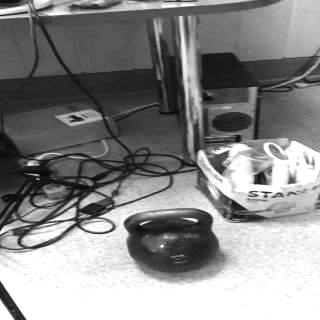kettlebell: (125, 207, 220, 273)
